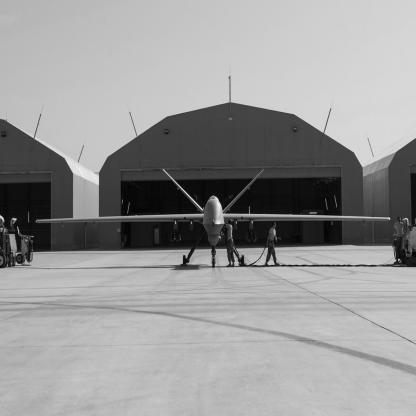MQ9: (36, 169, 391, 268)
